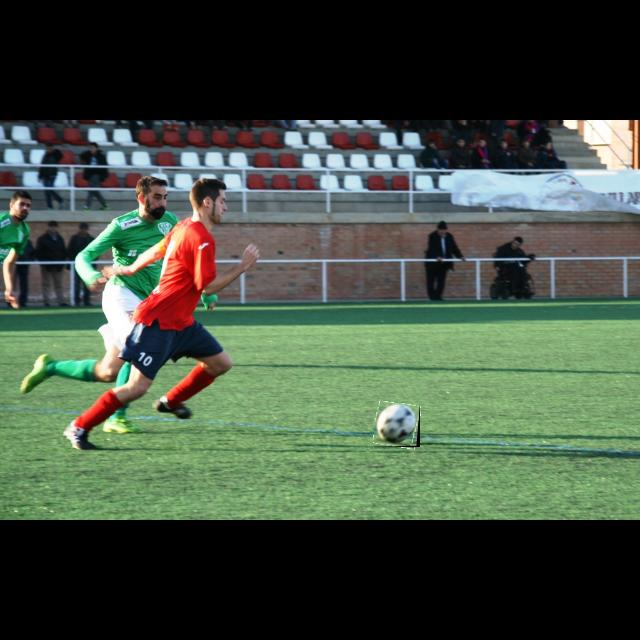Football: (374, 403, 420, 447)
